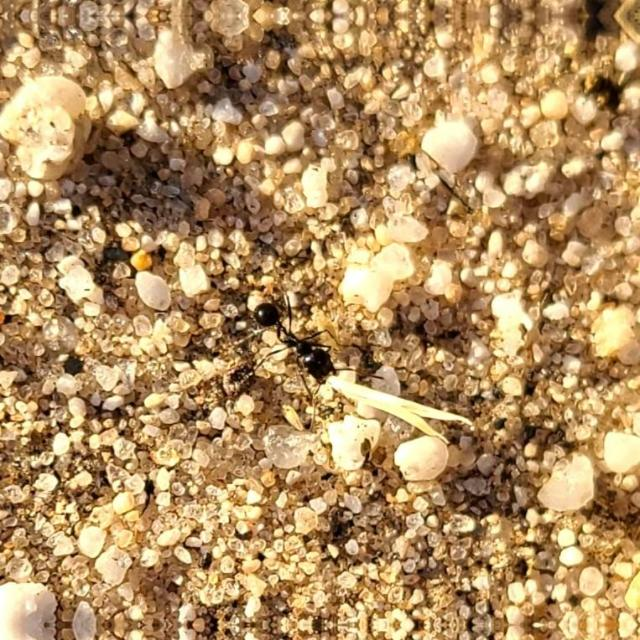Messor: (244, 300, 364, 398)
